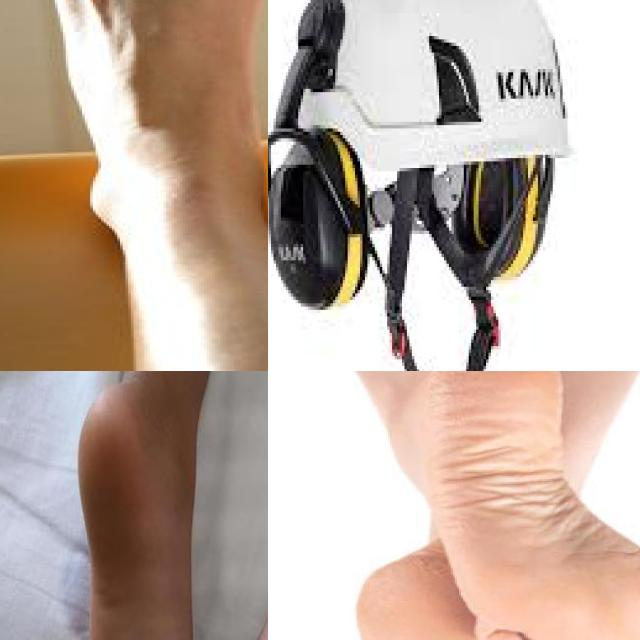Barefoots: (26, 0, 268, 248), (417, 371, 640, 640), (70, 372, 201, 640), (268, 557, 510, 640), (193, 437, 268, 640)
Ear-protection: (268, 122, 367, 310), (514, 155, 546, 280)
head_helmet: (286, 0, 575, 174)
